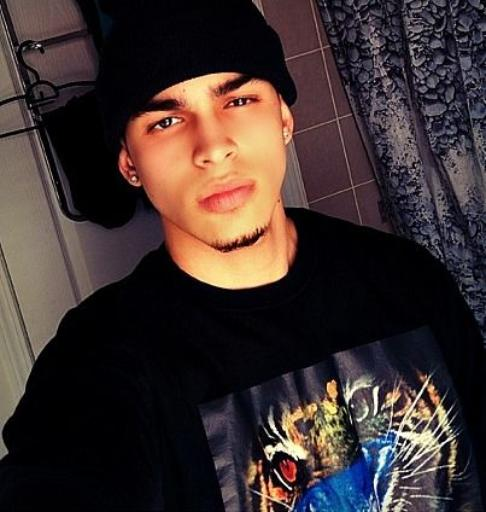left_eye: (223, 96, 263, 113)
left_lip_corner: (243, 180, 261, 197)
right_eye: (149, 116, 188, 135)
right_lip_corner: (196, 194, 211, 209)
